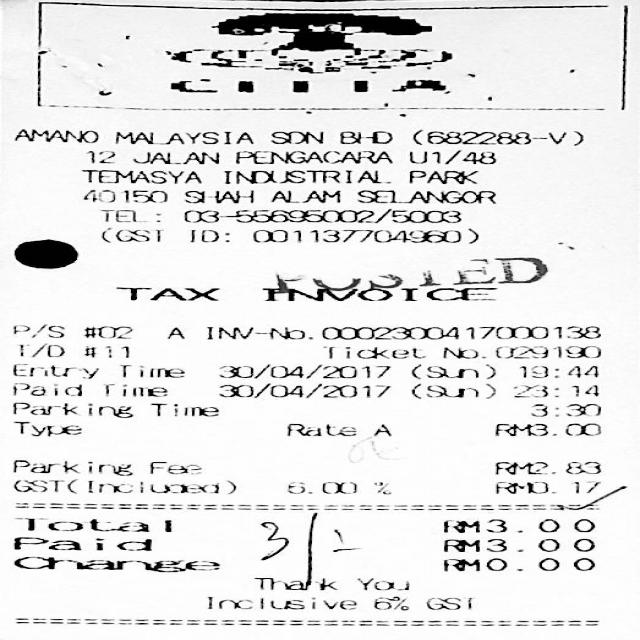text: (320, 324, 598, 338), (183, 208, 458, 222), (417, 257, 545, 284), (251, 227, 476, 242), (12, 478, 234, 492), (11, 556, 217, 571), (261, 288, 492, 300), (411, 128, 581, 144), (217, 363, 388, 378), (216, 383, 386, 397), (16, 516, 170, 530), (222, 169, 386, 182), (442, 518, 592, 532), (234, 149, 390, 162), (442, 538, 592, 551), (205, 595, 355, 608), (11, 536, 149, 550), (11, 459, 131, 475), (355, 189, 492, 203), (11, 401, 131, 416), (442, 558, 592, 570), (114, 130, 251, 143), (78, 169, 198, 182), (115, 286, 217, 300), (493, 345, 600, 357), (493, 422, 600, 434), (493, 461, 600, 473), (11, 363, 95, 378), (206, 326, 310, 338), (321, 346, 424, 358), (407, 148, 492, 162), (512, 383, 597, 397), (11, 128, 94, 142), (252, 576, 334, 590), (411, 364, 492, 378), (411, 383, 492, 397), (82, 189, 165, 201), (11, 420, 80, 434), (518, 365, 597, 377), (10, 382, 81, 395), (99, 226, 160, 241), (285, 422, 355, 435), (182, 189, 251, 202), (148, 402, 217, 415), (408, 169, 476, 182), (131, 152, 217, 162), (284, 481, 355, 493), (528, 403, 598, 415), (100, 383, 164, 396), (268, 190, 337, 202), (119, 364, 182, 377), (494, 480, 547, 493), (338, 129, 390, 142), (148, 461, 200, 474), (10, 323, 61, 336), (270, 129, 320, 142), (16, 342, 62, 356), (82, 324, 130, 337), (356, 577, 406, 589), (424, 596, 474, 608), (99, 209, 142, 221), (188, 228, 226, 241), (372, 594, 406, 608), (83, 345, 126, 356), (440, 346, 475, 358), (570, 480, 598, 493), (87, 149, 112, 162), (371, 481, 388, 493), (371, 424, 389, 434), (165, 326, 182, 336)
